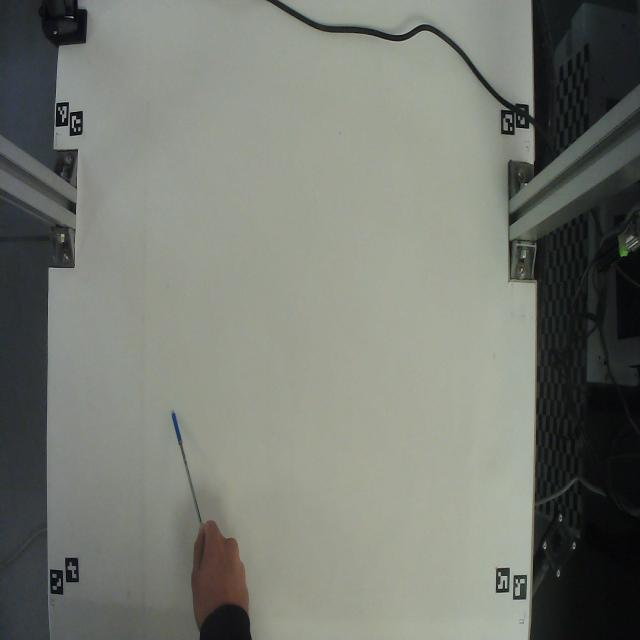Pres: (165, 407, 215, 531)
